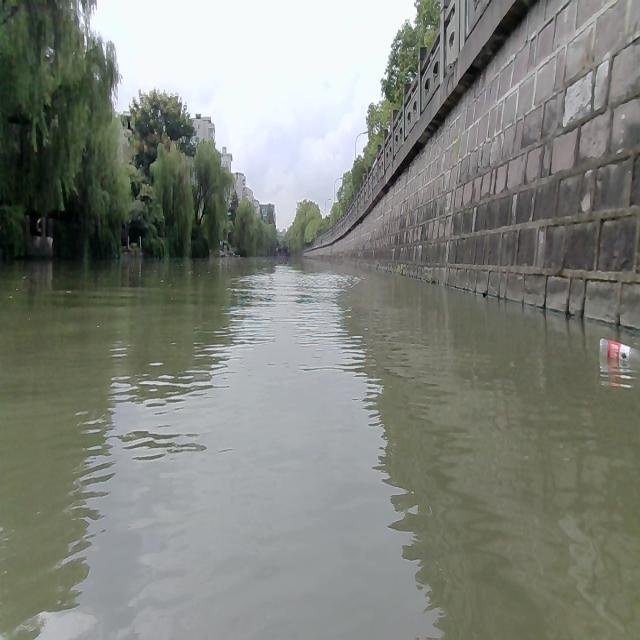bottle: (598, 337, 640, 358)
